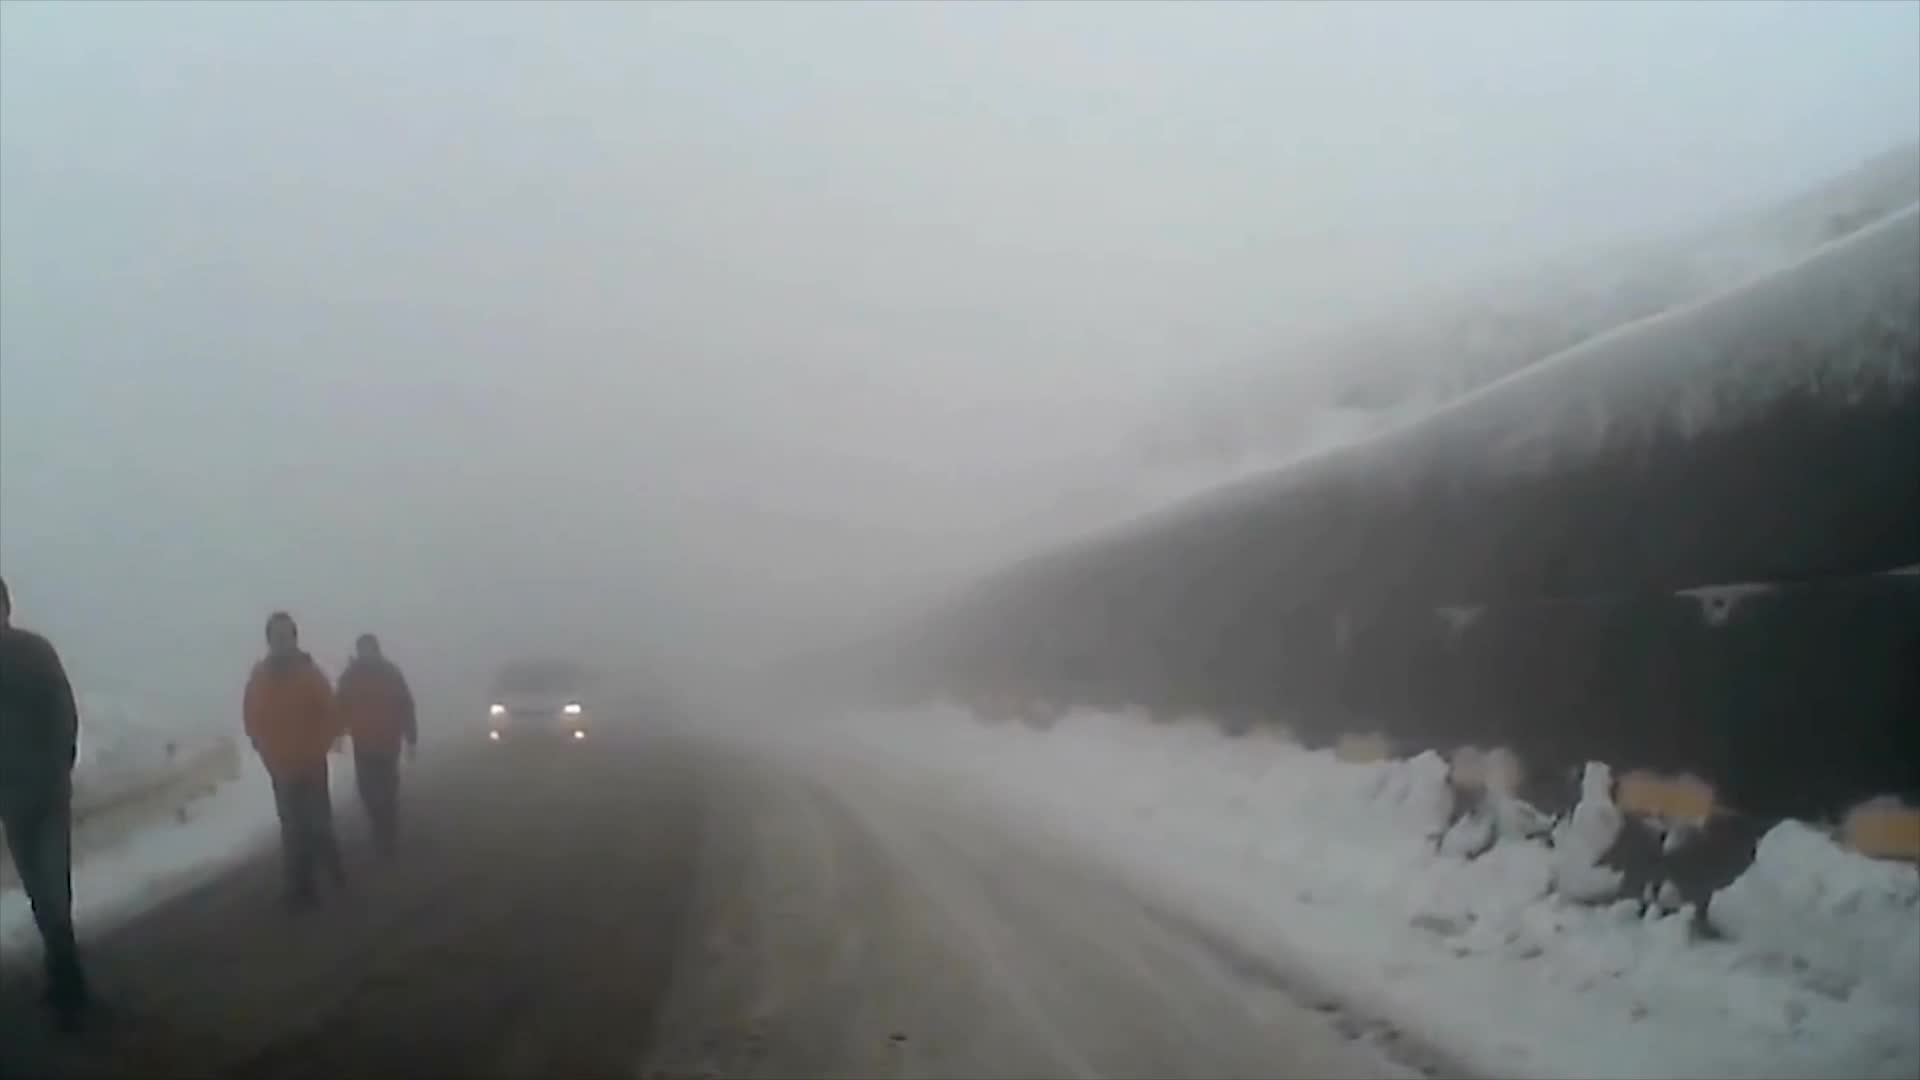pedestrian: (3, 577, 124, 1024), (254, 615, 357, 901), (346, 635, 426, 861)
vehicle: (487, 661, 594, 759)
